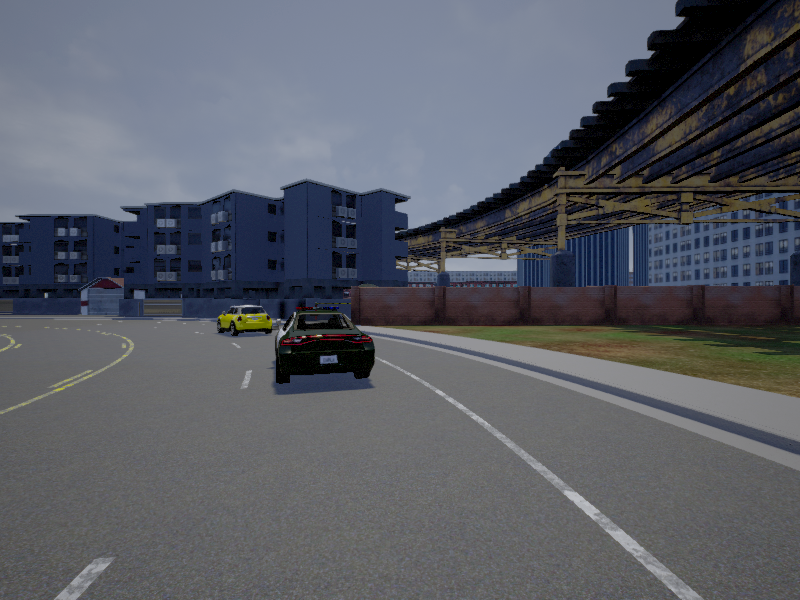Benign: (273, 306, 372, 385), (217, 304, 274, 335)
